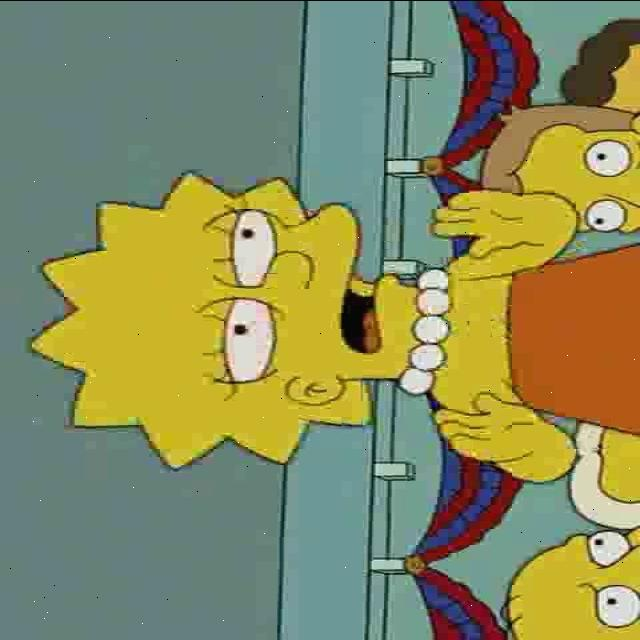Lisa Simpson: (28, 170, 454, 472)
